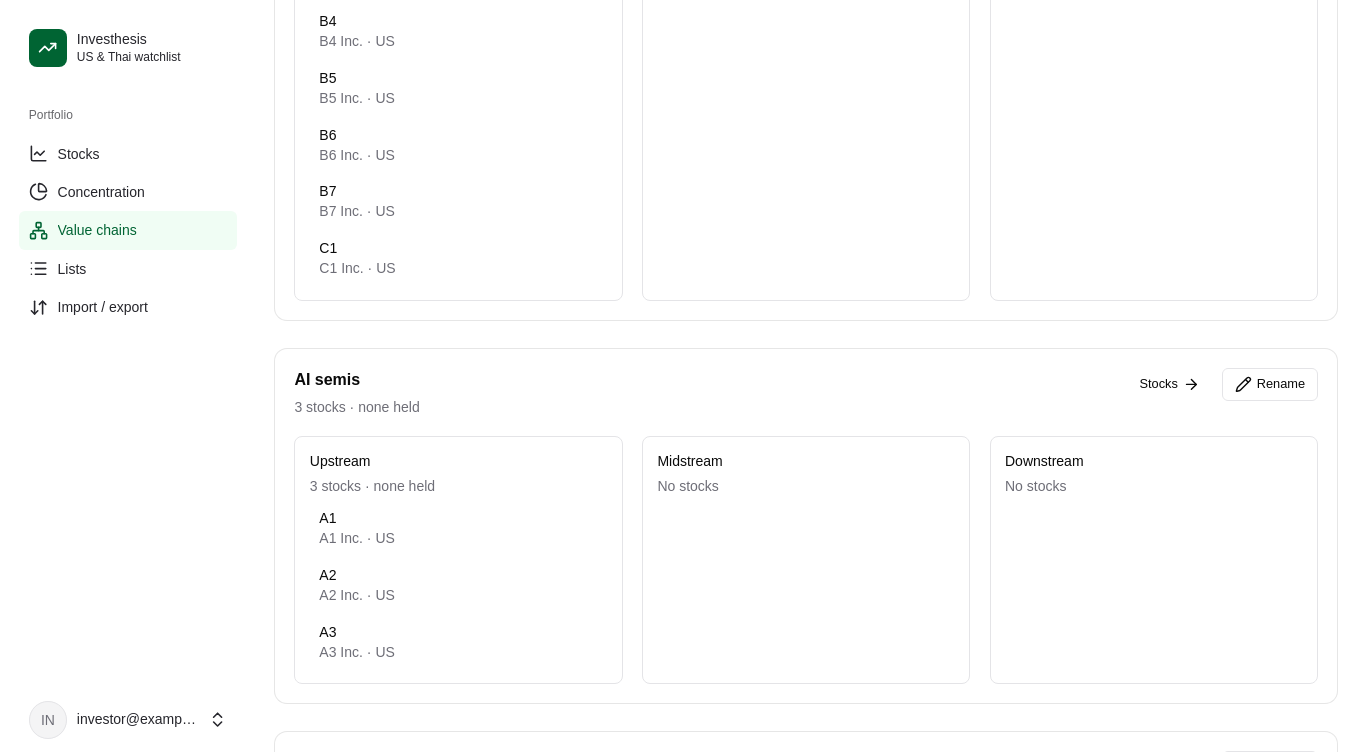
it: the rename dialog › TC-C-931 renaming AI semis to ai & semis is a merge
(page scrolled)
Click the button "Rename" in the row of "AI semis". click: (1270, 385)
box: top-left (1222, 368), bottom-right (1318, 401)
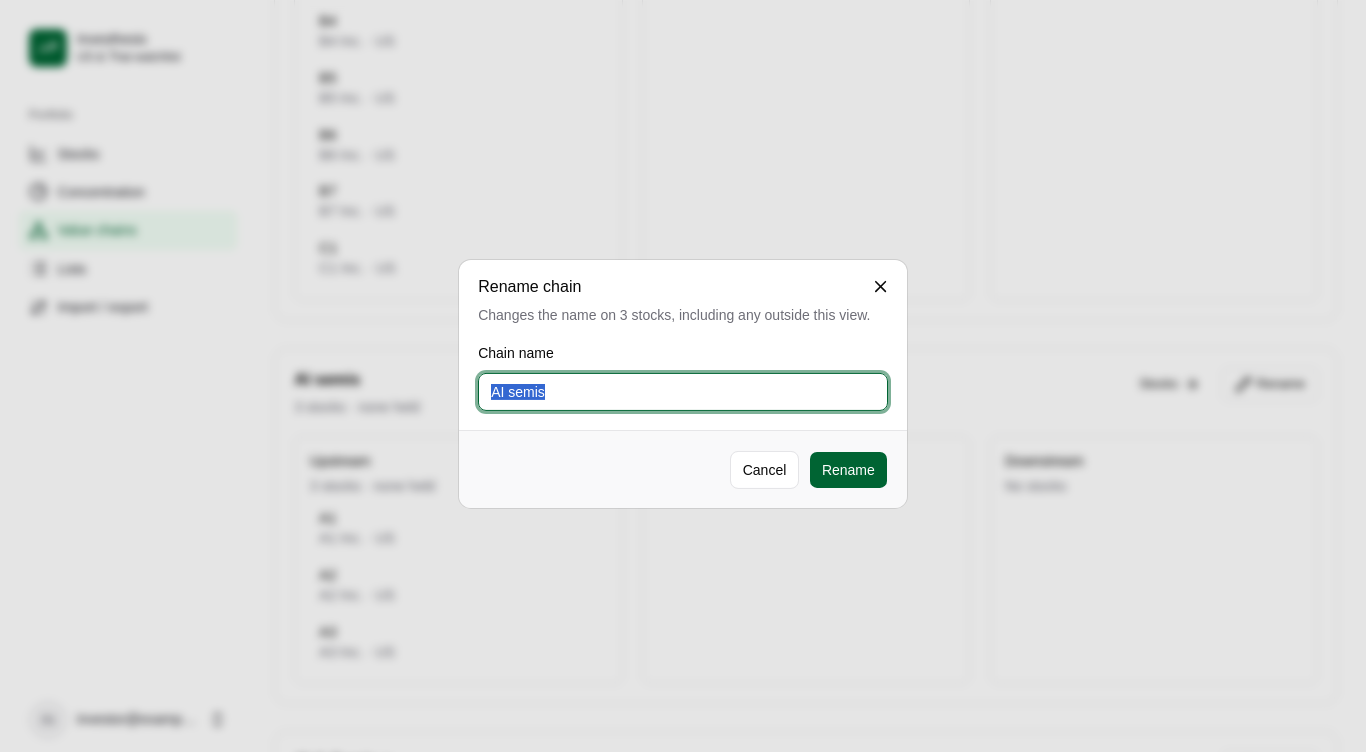
Replace the text in the field labelled "Chain name" with "ai & semis". click: (683, 392)
box: top-left (478, 373), bottom-right (888, 411)
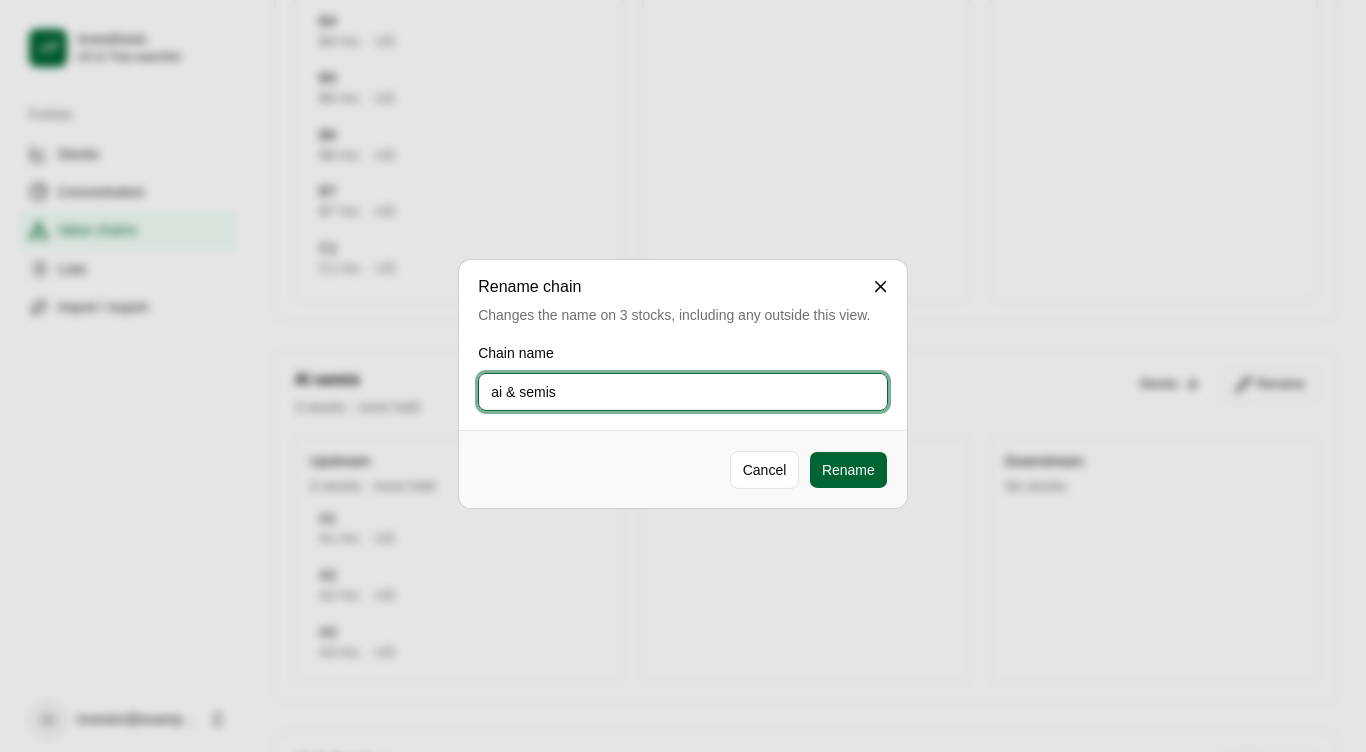
Click the button "Rename". click: (848, 470)
box: top-left (809, 450), bottom-right (888, 489)
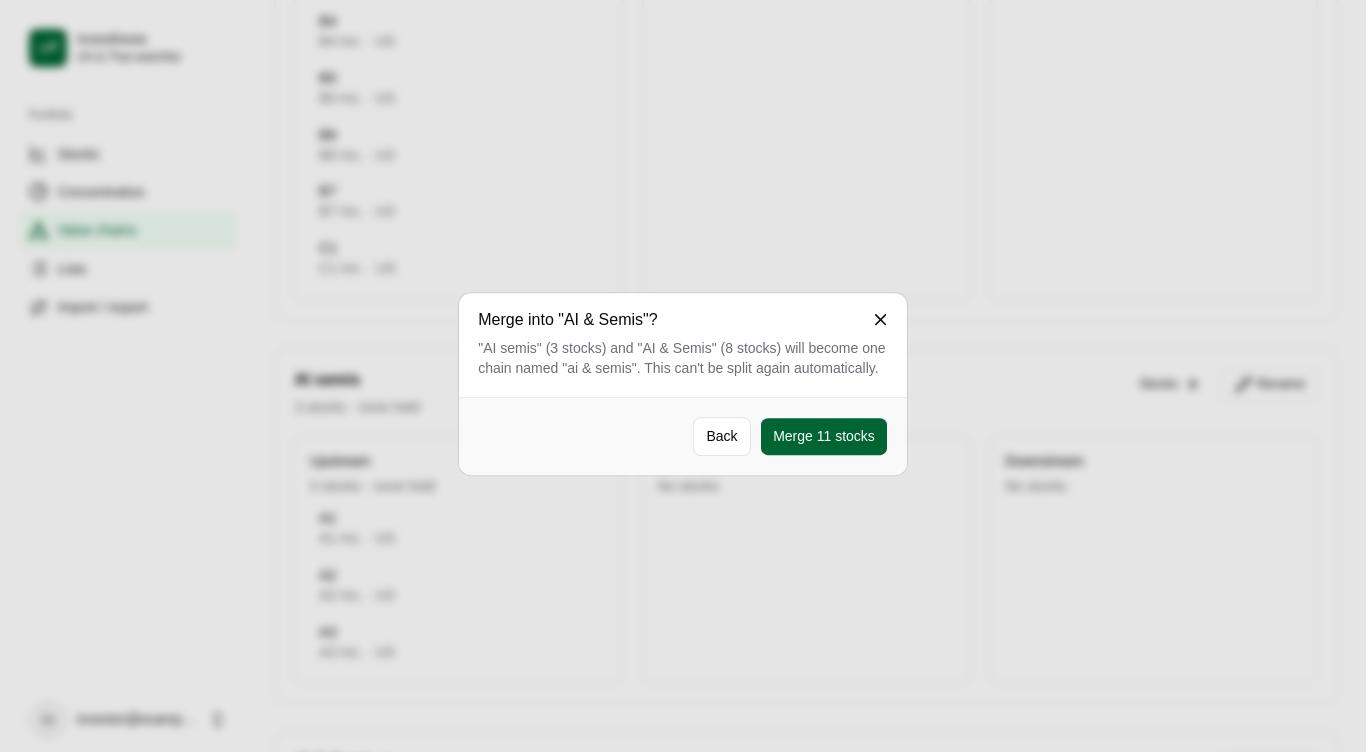
Now the heading "Merge into \"AI & Semis\"?" is shown, box top-left (478, 311), bottom-right (658, 328)
Now the button "Merge 11 stocks" is shown, box top-left (760, 417), bottom-right (888, 456)
